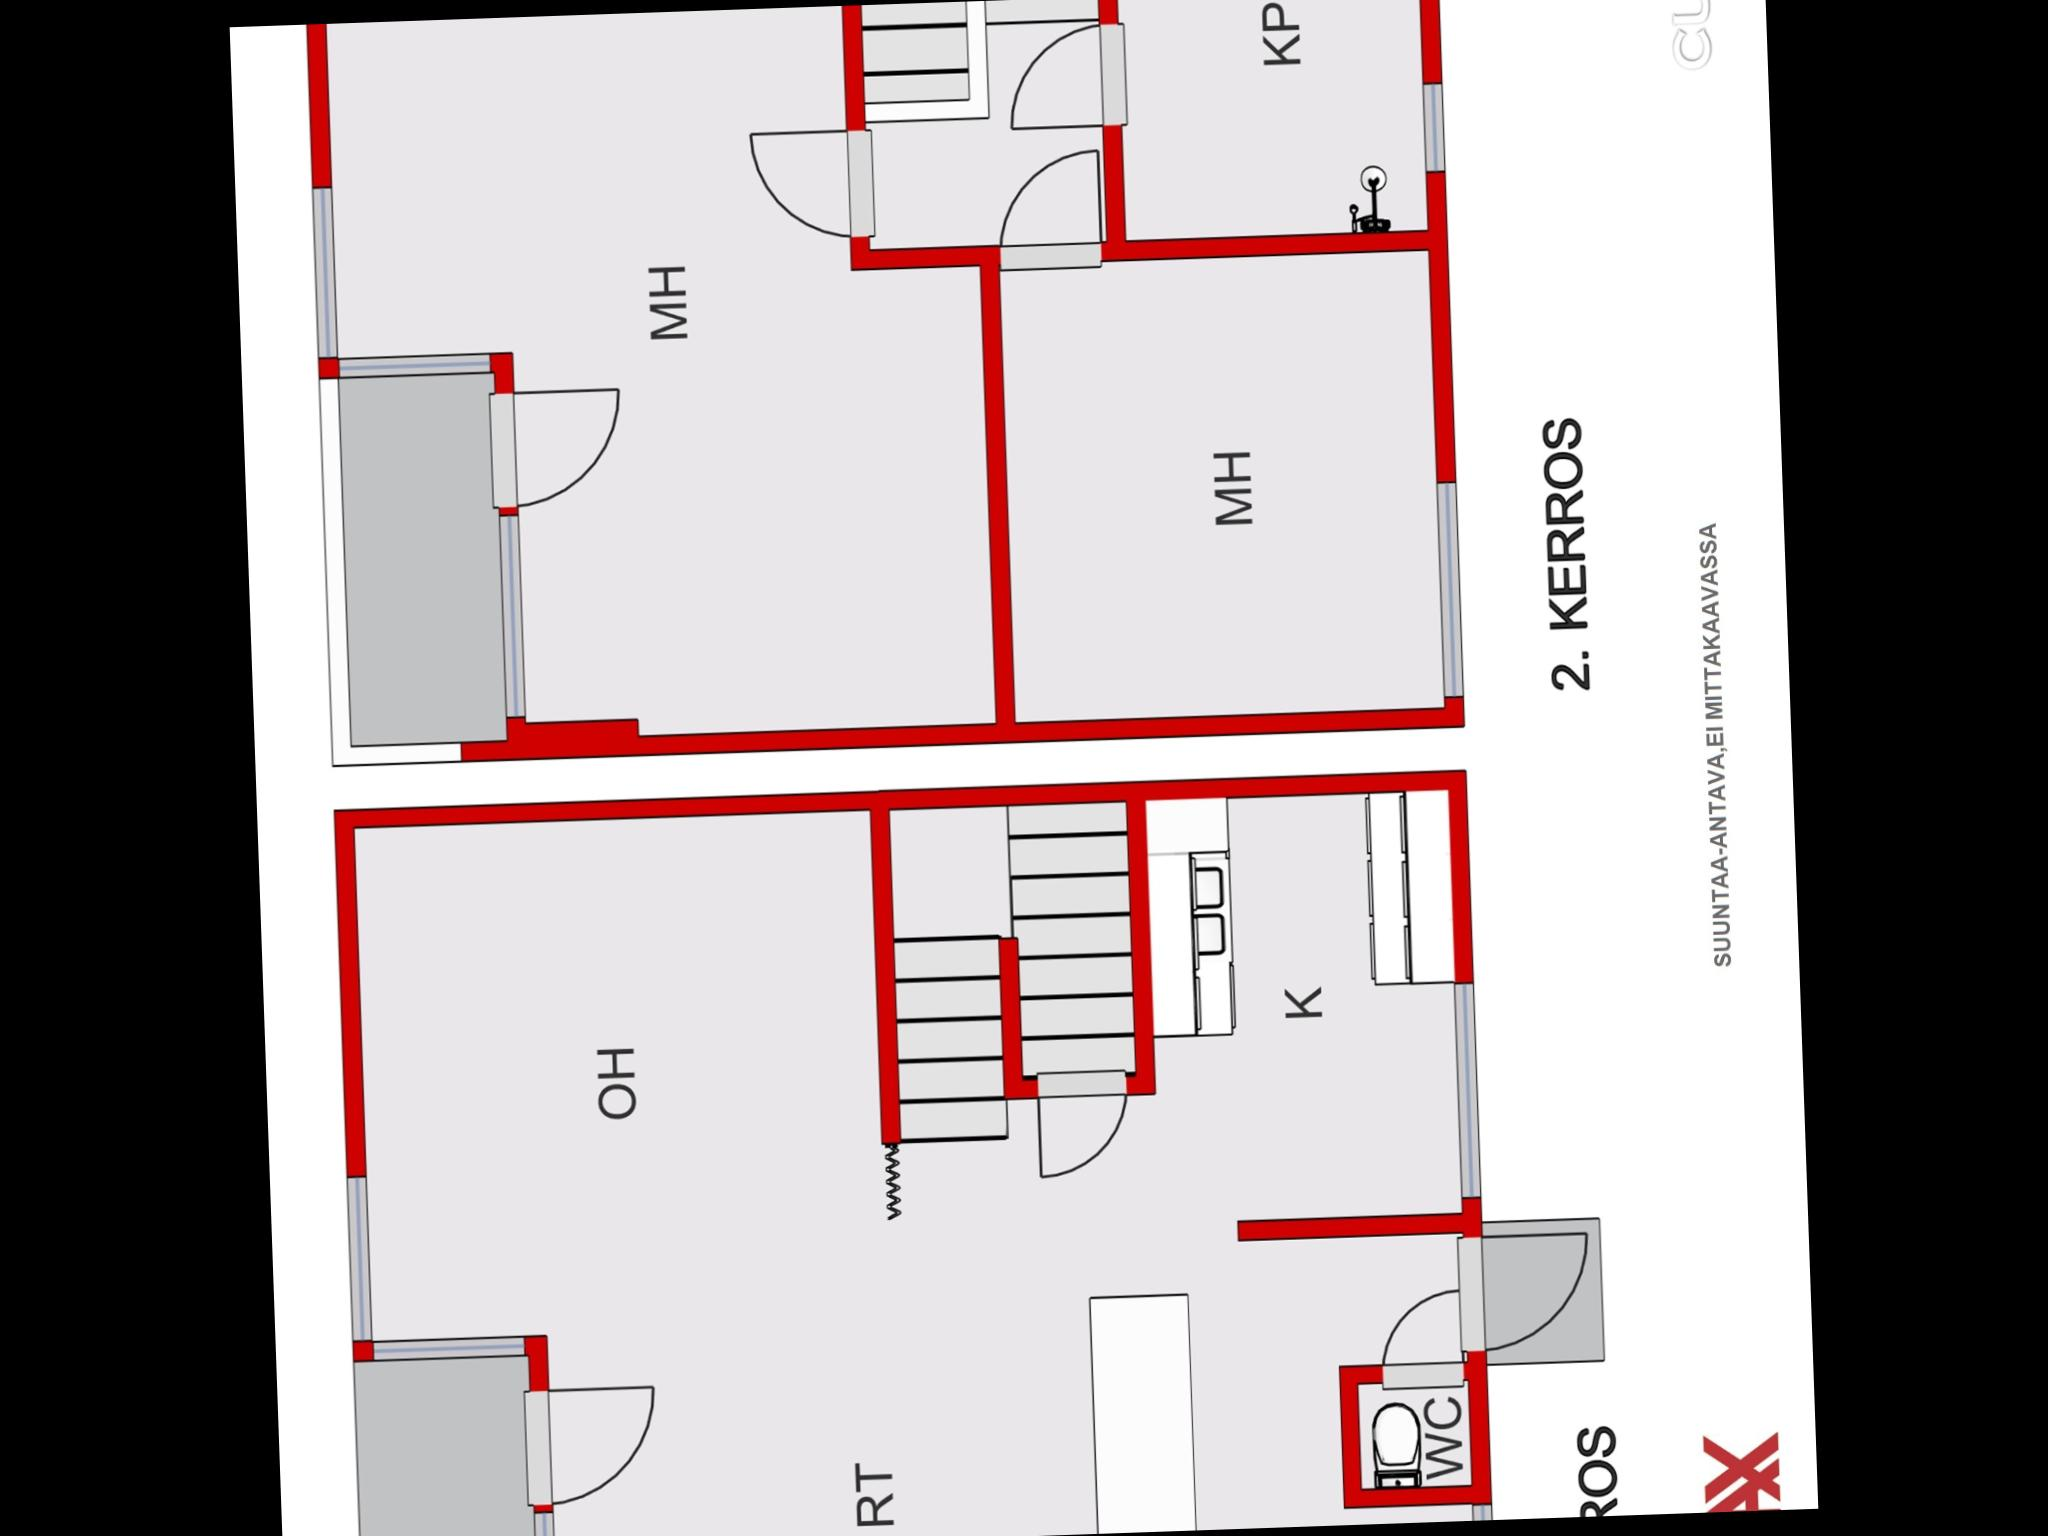door: (514, 1376, 681, 1517), (484, 371, 635, 521), (1445, 1223, 1598, 1360), (735, 119, 876, 250), (989, 142, 1121, 276), (1001, 16, 1134, 137), (1026, 1058, 1140, 1191), (1372, 1278, 1472, 1399)
window: (1447, 968, 1500, 1220), (1427, 463, 1477, 715), (490, 505, 539, 729), (303, 173, 347, 376), (335, 1152, 377, 1354), (319, 349, 511, 384), (364, 1326, 539, 1365), (1414, 65, 1456, 194), (522, 1501, 569, 1536), (1464, 1484, 1505, 1521)
